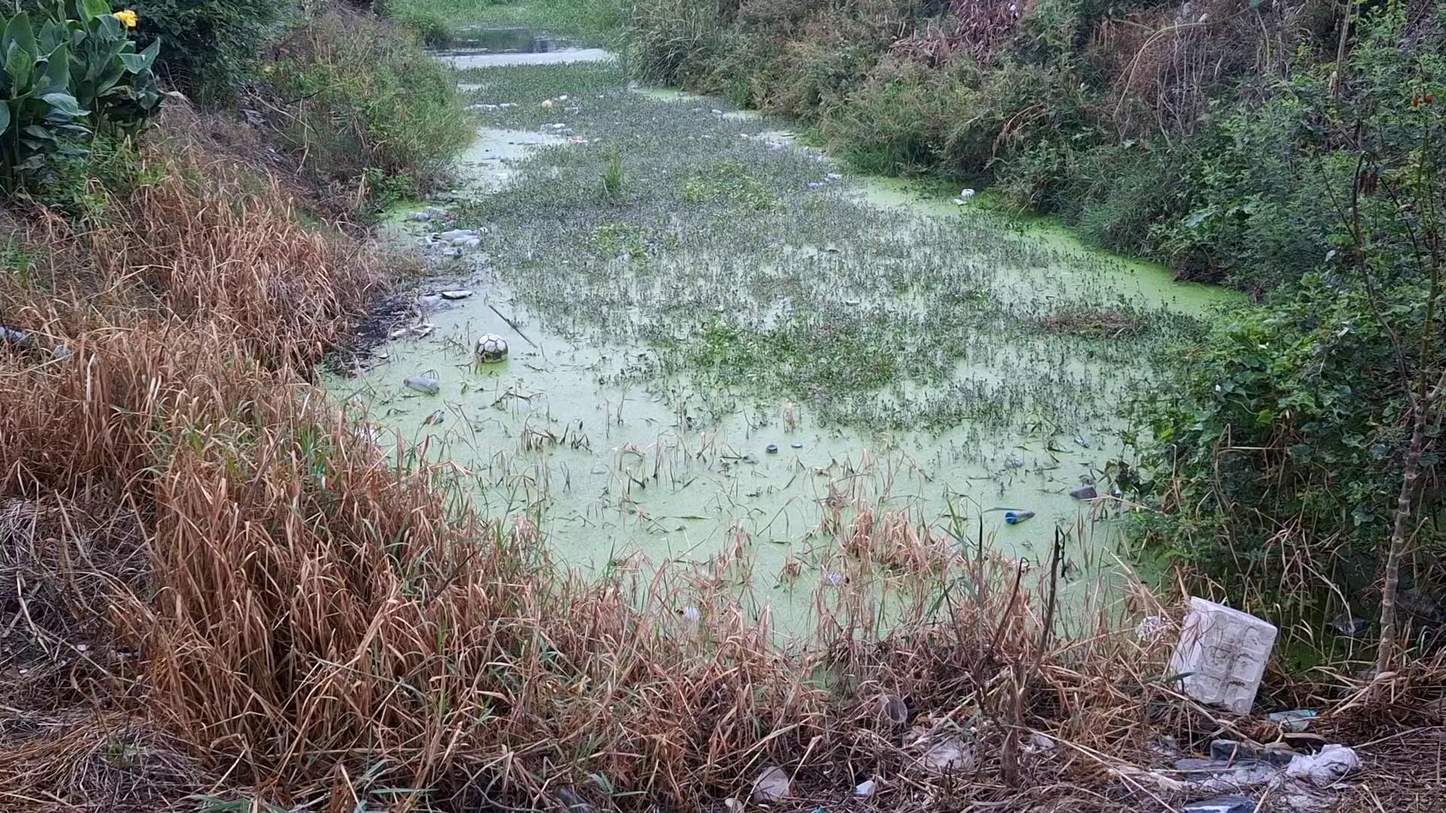ignore: (706, 226, 1065, 438), (551, 176, 816, 357), (477, 60, 748, 211)
trash: (388, 366, 458, 399), (426, 226, 490, 258), (464, 332, 520, 365), (992, 503, 1044, 531), (1054, 482, 1109, 506), (409, 201, 455, 227), (755, 440, 817, 459), (820, 566, 855, 596), (437, 282, 477, 308), (946, 184, 984, 208), (805, 170, 849, 190)
